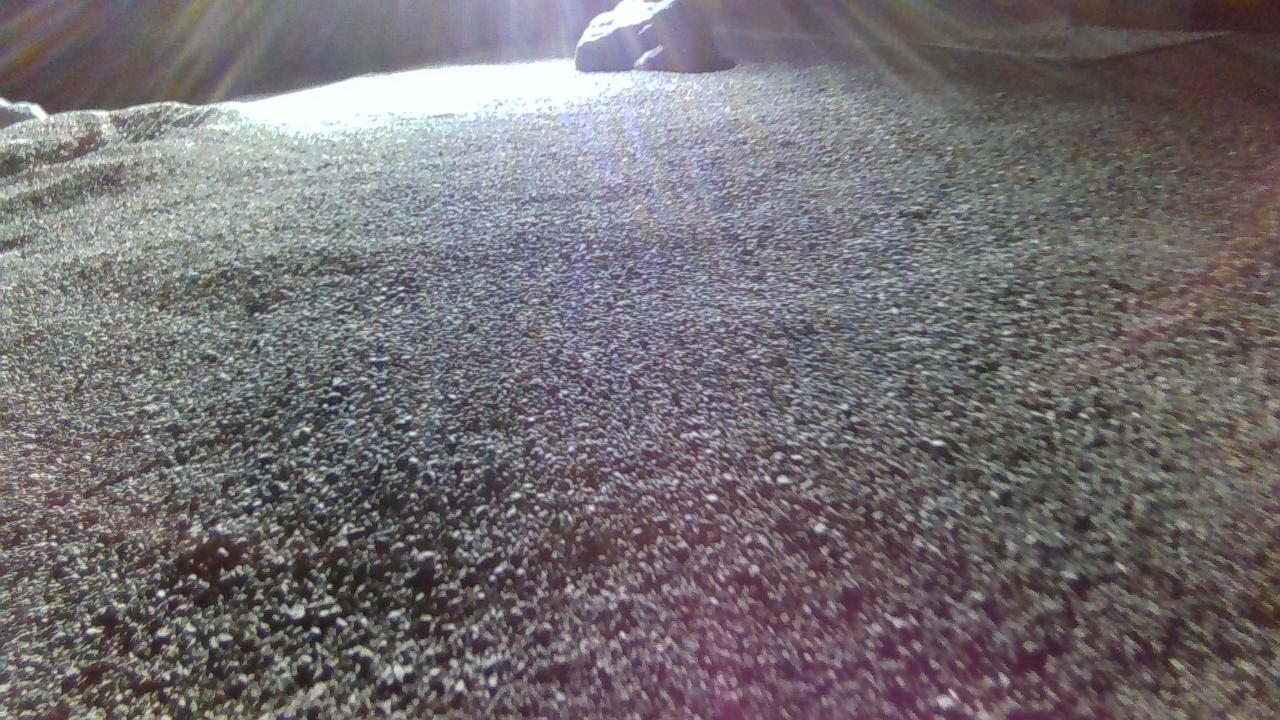rock: (576, 0, 720, 71)
